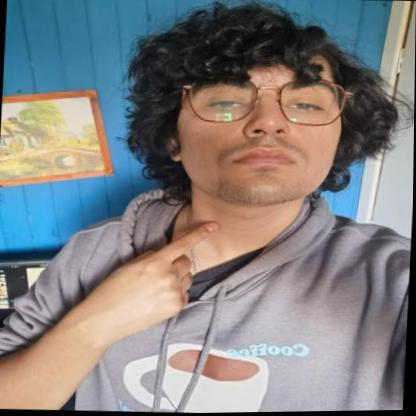Q: (94, 217, 222, 329)
